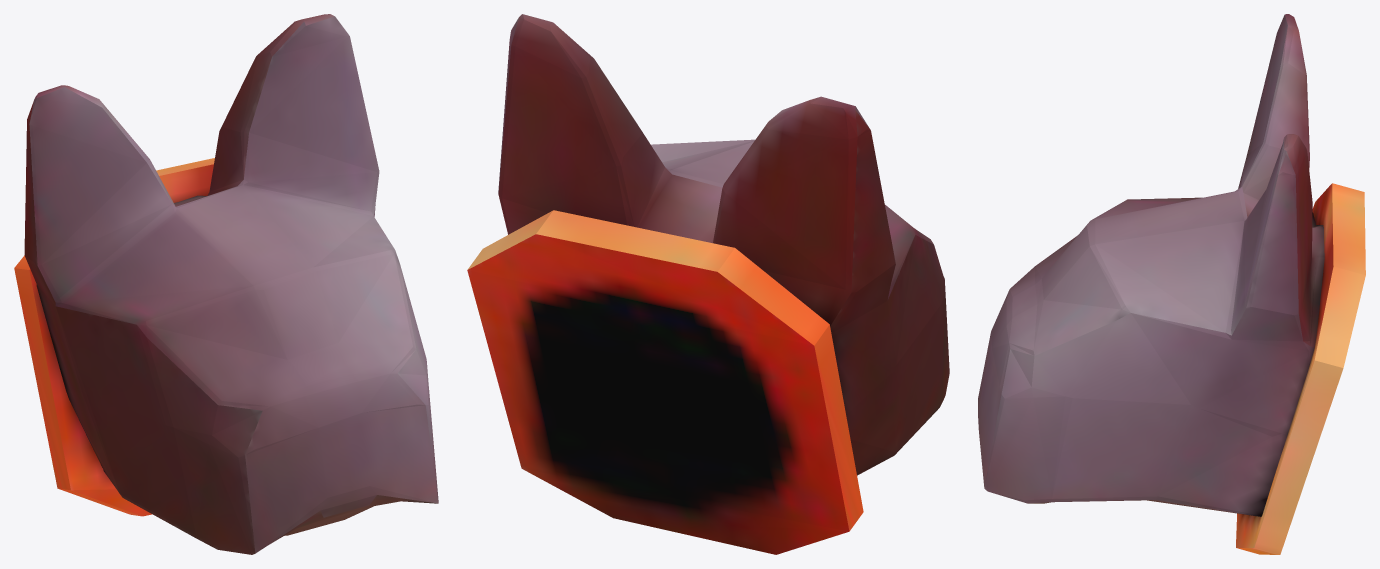
The model's file is sudohead.glb.
3 renders of one model, left to right at view 1: azimuth 30°, elevation 25°; view 2: azimuth 150°, elevation 25°; view 3: azimuth 270°, elevation 25°, orthographic. The views are drawn at different scales.
Parts seen in each view (by area): view 1: SudoHead; view 2: SudoHead; view 3: SudoHead.
Part boxes in pixels (bbox=[...]): SudoHead: bbox=[14, 14, 438, 554]; SudoHead: bbox=[467, 14, 949, 554]; SudoHead: bbox=[978, 14, 1365, 554].
Size of the model in its own units: 0.1735 by 0.2143 by 0.1711.
Materials: 1 (1 with a texture image).
